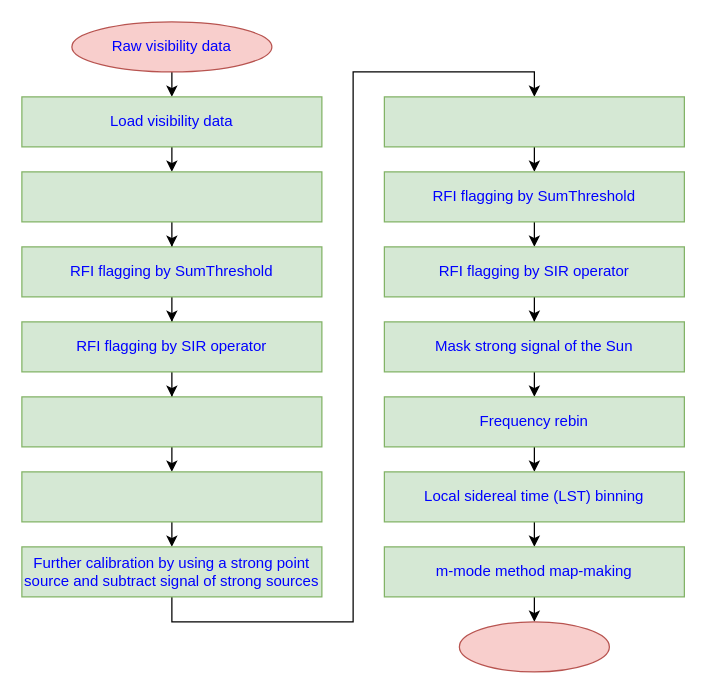
The diagram is 706 pixels wide and 694 high, and some of its shapes have lost their labels. Each missing label, with the centre of its shape:
Calibration by using a strong point source: the point at 171,421
Detect artificial noise source signal: the point at 171,196
Phase variation correction by using artificial noise source signal: the point at 171,496
Sky map: the point at 533,646
Subtract night time mean: the point at 533,121
